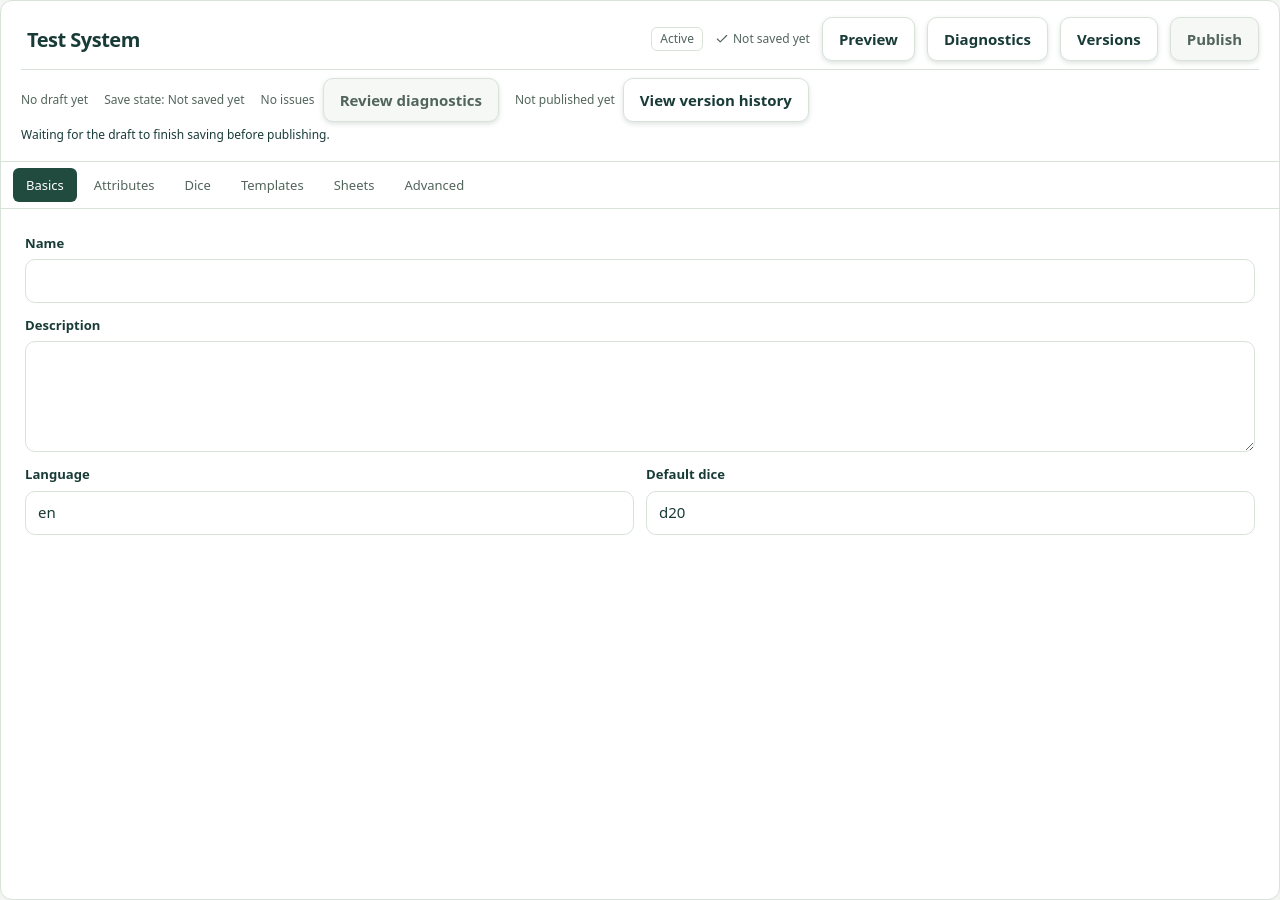
Test: DocumentEditor › opens the diagnostics drawer when the diagnostics toggle is clicked
Click the button with test id "document-editor-diagnostics-toggle". click: {"x": 987, "y": 39}
box: 927,17 -> 1048,61
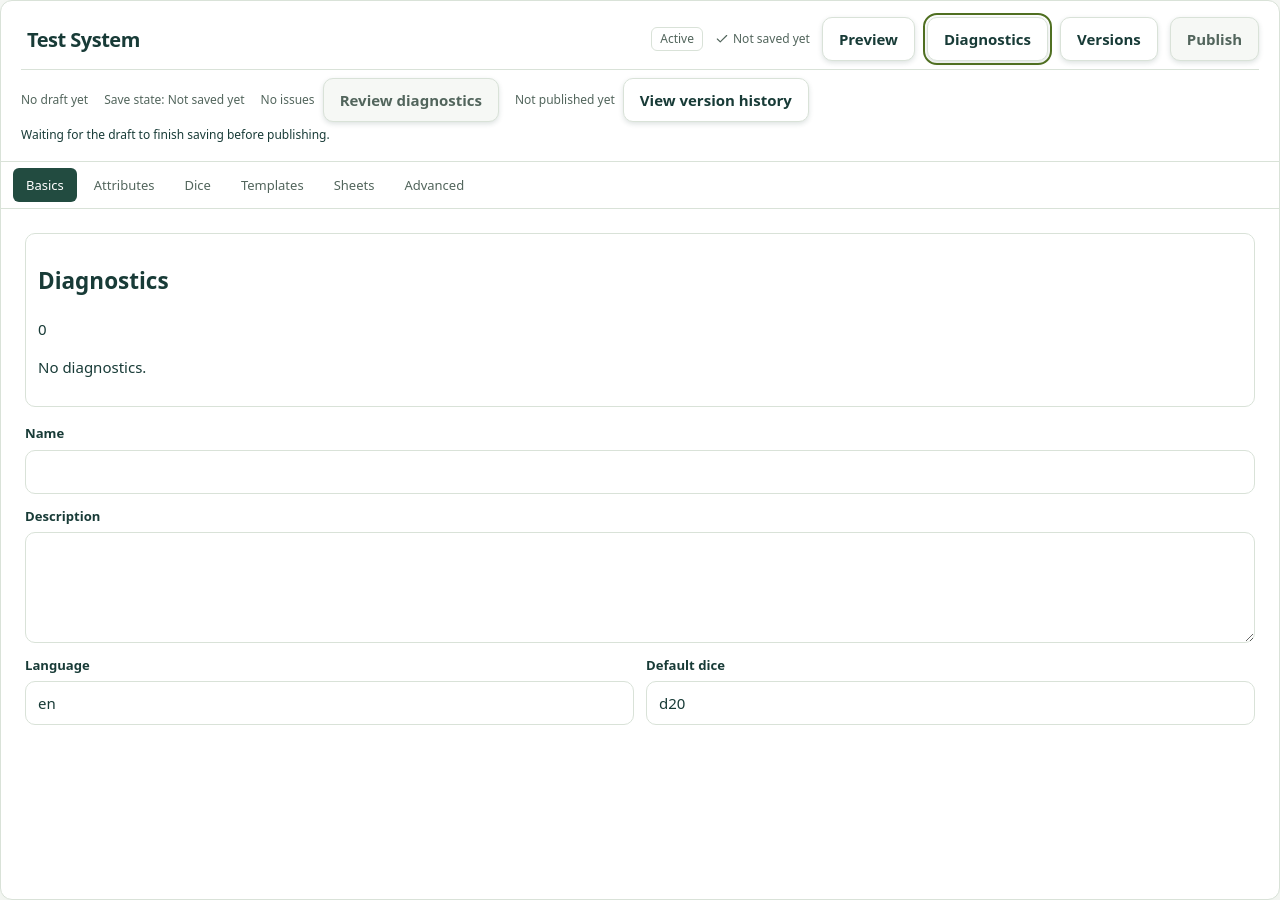
Check: the element with test id "diagnostics-drawer" is shown, box 38,265 -> 169,377
